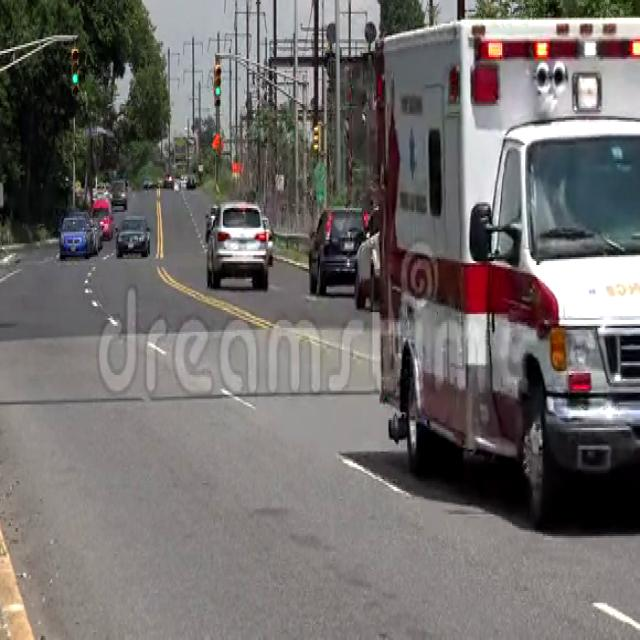emergency: (374, 20, 640, 522)
